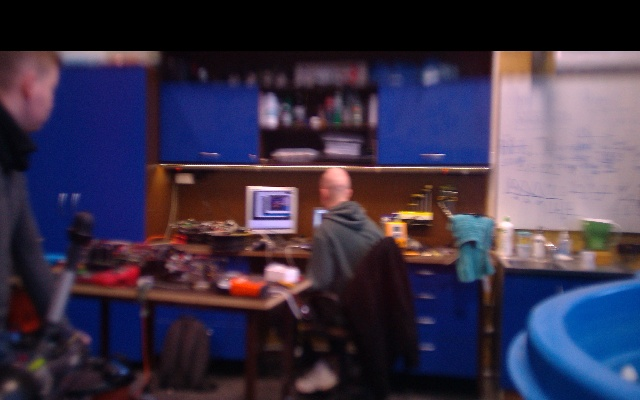black: (44, 263, 78, 330)
